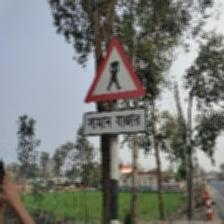Market-in-front: (84, 36, 152, 137)
